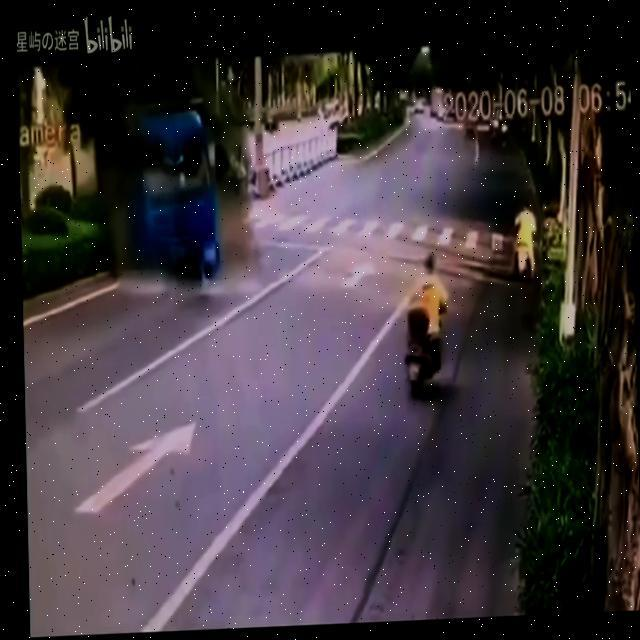normal: (381, 251, 464, 387)
single accident: (111, 91, 247, 270)
